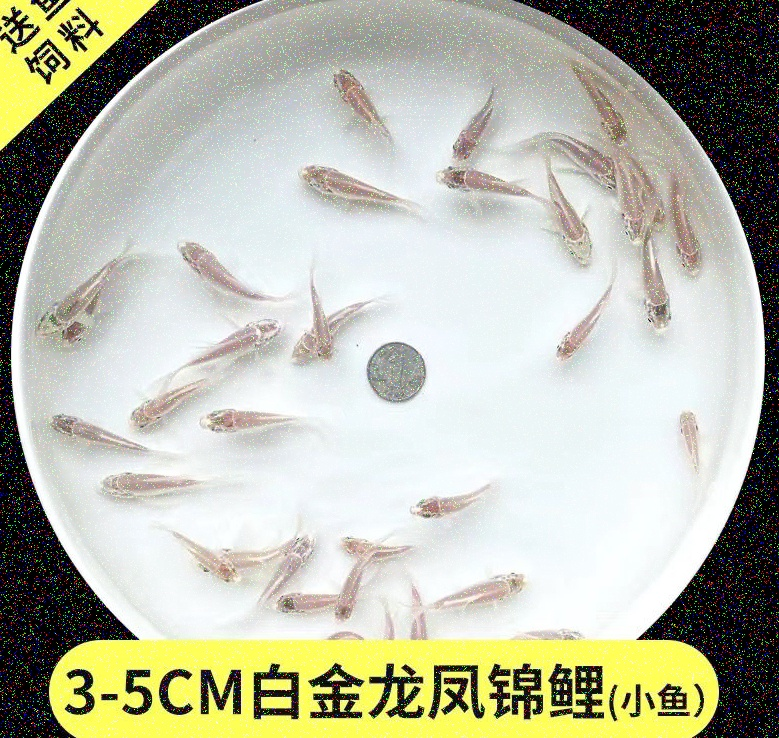fry: (160, 228, 291, 322), (284, 154, 416, 219), (317, 61, 407, 147), (430, 156, 541, 215), (659, 175, 711, 287), (97, 462, 216, 509), (39, 408, 146, 460), (540, 285, 607, 368), (434, 574, 556, 619), (395, 478, 507, 527), (189, 307, 281, 366), (431, 84, 507, 155), (574, 66, 636, 153), (548, 122, 619, 196), (638, 227, 680, 350), (545, 183, 597, 281), (668, 395, 718, 492), (605, 154, 653, 250), (174, 525, 245, 589), (628, 145, 677, 237), (258, 526, 313, 604), (121, 377, 198, 432), (199, 404, 295, 445), (335, 530, 413, 575), (33, 275, 89, 337), (288, 308, 341, 370), (53, 301, 109, 353), (333, 556, 374, 624), (313, 296, 348, 374), (223, 533, 286, 573), (393, 580, 430, 639), (270, 587, 333, 620)
